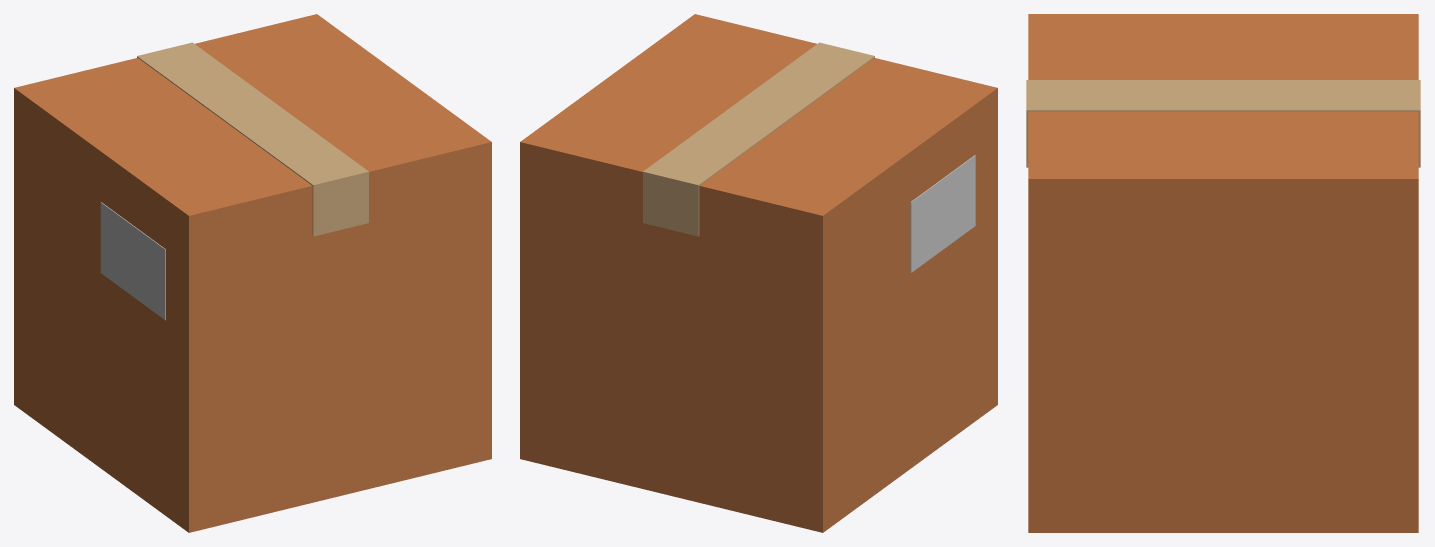
The model's file is Cardboard_Box_Closed.fbx.
3 renders of one model, left to right at view 1: azimuth 30°, elevation 25°; view 2: azimuth 150°, elevation 25°; view 3: azimuth 270°, elevation 25°, orthographic. The views are drawn at different scales.
Parts seen in each view (by area): view 1: Cube; view 2: Cube; view 3: Cube.
Boxes of the visible parts, box(x1,y1,x2,y2) form: Cube: box(14, 14, 491, 532); Cube: box(520, 14, 997, 532); Cube: box(1026, 14, 1420, 532).
Bounding box in the file's own units: 200 × 201 × 202.
